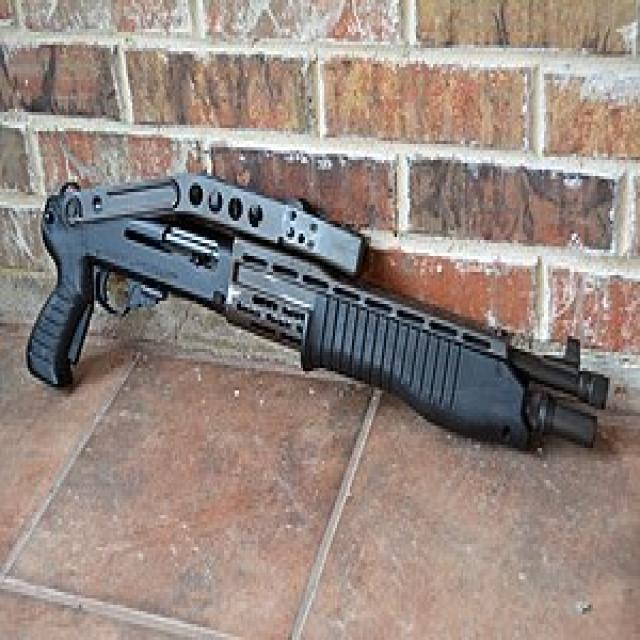shotgun: (22, 167, 609, 457)
